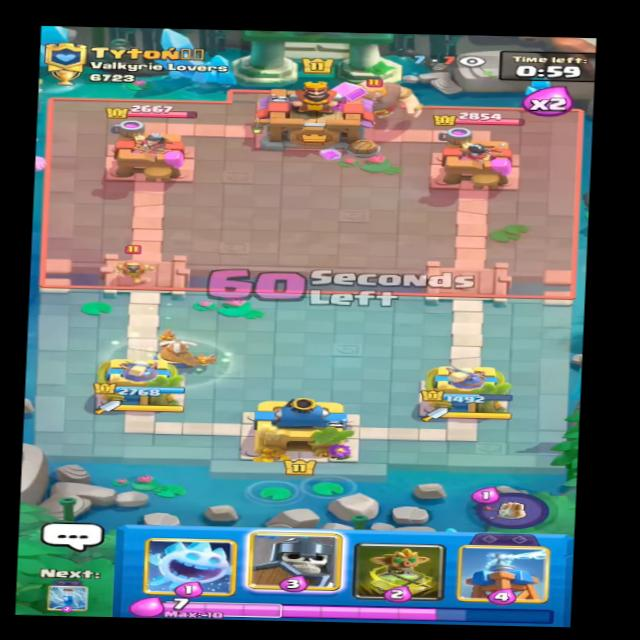Giant: (326, 74, 439, 123)
Wizard: (104, 244, 153, 283)
